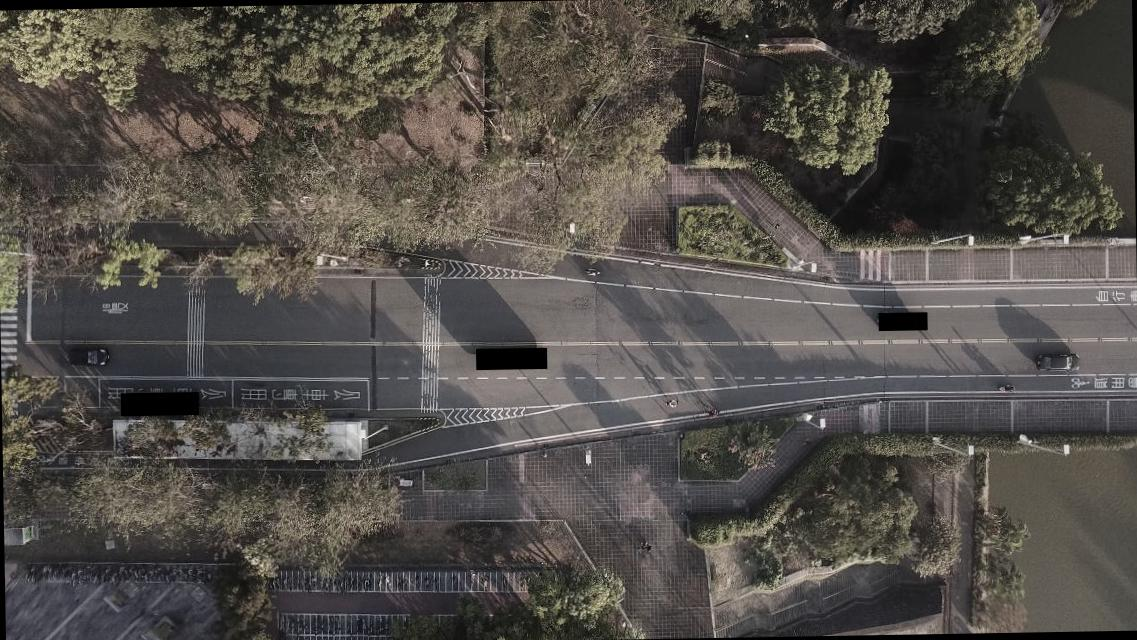vehicle: (1035, 352, 1081, 373), (66, 348, 110, 366)
